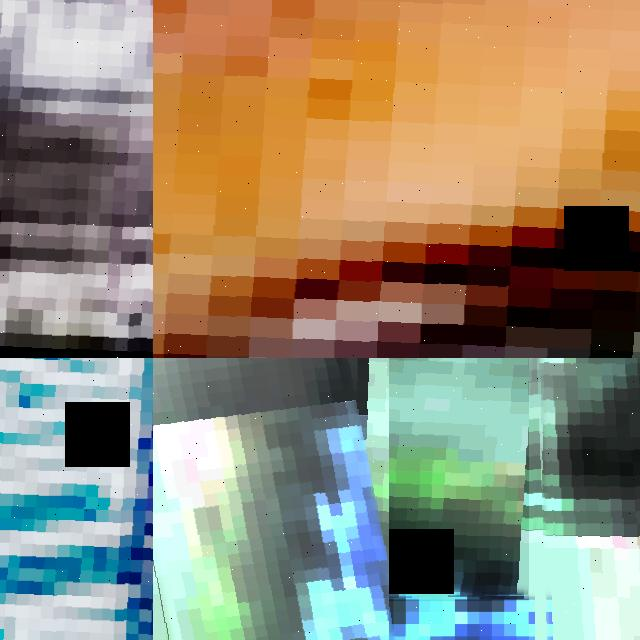arms: (153, 0, 640, 358), (187, 358, 640, 601), (153, 358, 389, 640), (0, 0, 153, 358), (0, 358, 153, 640), (529, 358, 640, 640)
